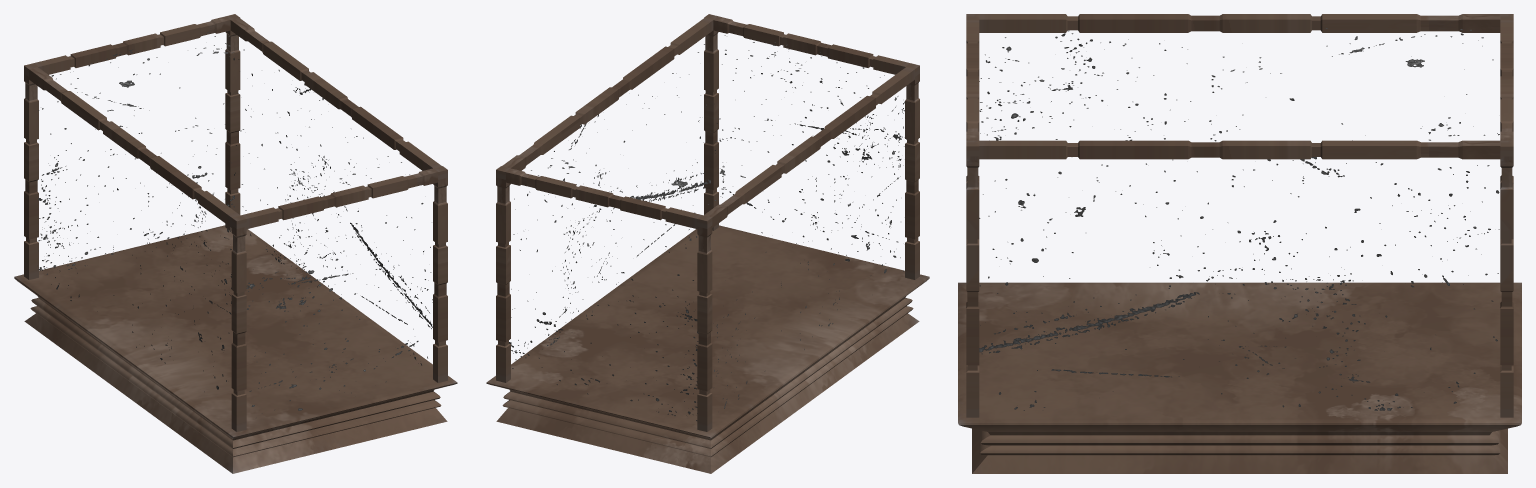
Rendered from displayBox3noShelf.fbx.
The picture shows the model from 3 angles, left to right: view 1: azimuth 30°, elevation 25°; view 2: azimuth 150°, elevation 25°; view 3: azimuth 270°, elevation 25°; orthographic projection. The views are drawn at different scales.
Visible parts, largest first — view 1: DisplayBoxVar019, displayBoxSticks015, displayBoxSticks016, Glass001, displayBoxSticks010, displayBoxSticks011, displayBoxSticks009, displayBoxSticks014, displayBoxSticks013, displayBoxSticks012; view 2: DisplayBoxVar019, displayBoxSticks015, displayBoxSticks016, Glass001, displayBoxSticks009, displayBoxSticks012, displayBoxSticks010, displayBoxSticks013, displayBoxSticks014, displayBoxSticks011; view 3: DisplayBoxVar019, displayBoxSticks016, displayBoxSticks015, Glass001, displayBoxSticks012, displayBoxSticks011, displayBoxSticks013, displayBoxSticks014.
Part boxes in pixels (x1,y1,x2,y2): DisplayBoxVar019: (14,225,457,473); displayBoxSticks015: (29,67,240,227); displayBoxSticks016: (230,18,441,170); Glass001: (38,32,433,413); displayBoxSticks010: (231,215,246,431); displayBoxSticks011: (433,166,447,382); displayBoxSticks009: (24,63,38,279); displayBoxSticks014: (242,168,438,228); displayBoxSticks013: (34,16,230,74); displayBoxSticks012: (225,14,240,230); DisplayBoxVar019: (486,225,929,473); displayBoxSticks015: (704,67,914,227); displayBoxSticks016: (502,18,713,170); Glass001: (509,35,907,420); displayBoxSticks009: (697,215,712,431); displayBoxSticks012: (496,166,510,382); displayBoxSticks010: (905,63,919,279); displayBoxSticks013: (506,168,701,228); displayBoxSticks014: (713,16,909,74); displayBoxSticks011: (704,14,718,230); DisplayBoxVar019: (958,282,1521,473); displayBoxSticks016: (979,140,1500,159); displayBoxSticks015: (979,14,1500,32); Glass001: (979,28,1501,410); displayBoxSticks012: (1500,140,1513,417); displayBoxSticks011: (966,140,979,417); displayBoxSticks013: (1500,20,1513,140); displayBoxSticks014: (966,20,979,140).
Bounding box in the file's own units: 164 × 177 × 278.
3 materials, 3 textured.
